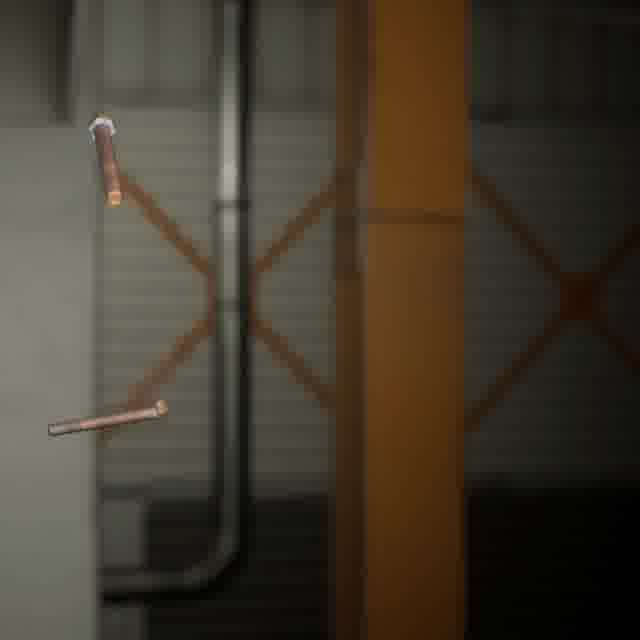bolt: (42, 394, 172, 441), (82, 109, 127, 210)
